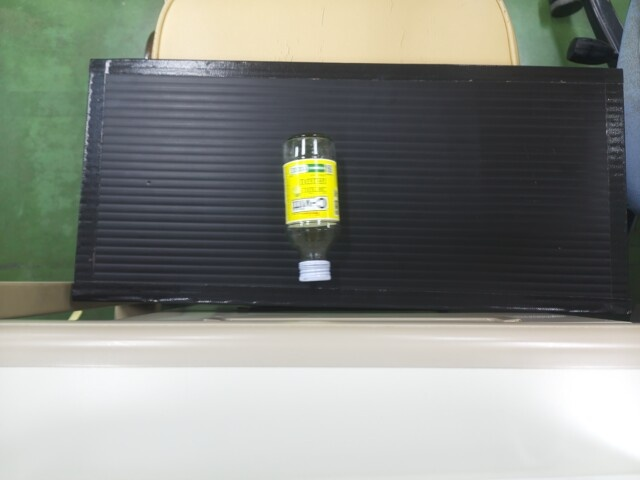glass_bottle: (278, 135, 342, 283)
